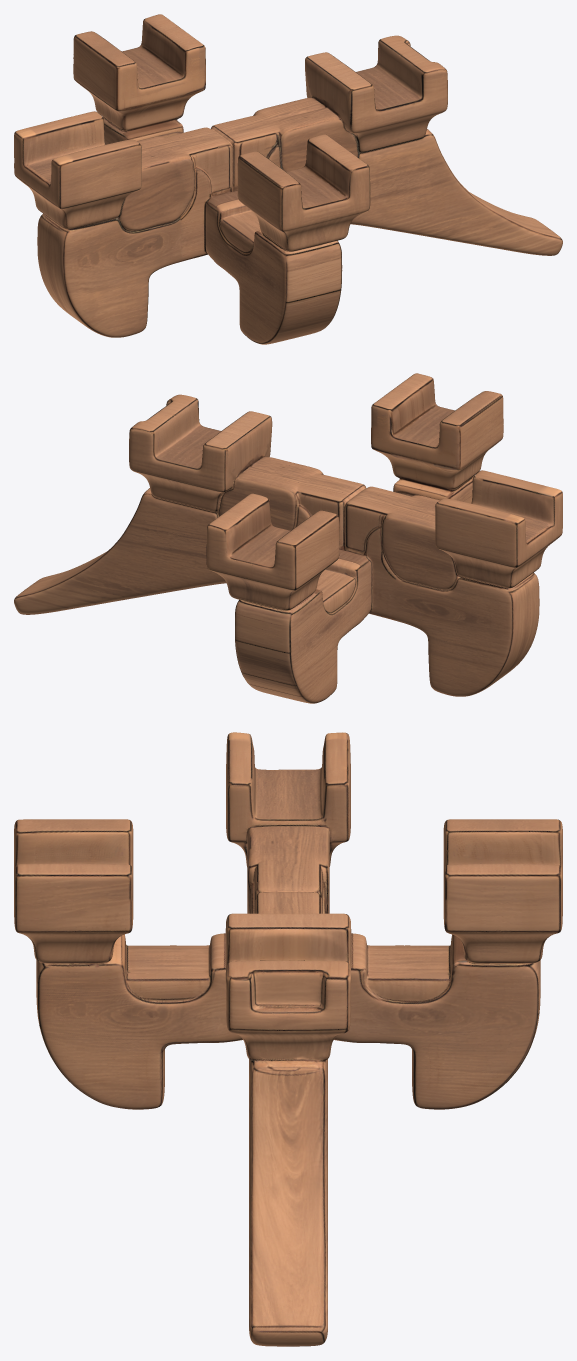
File: 组件集合肆.glb
3 renders of one model, top to bottom at view 1: azimuth 30°, elevation 25°; view 2: azimuth 150°, elevation 25°; view 3: azimuth 270°, elevation 25°, orthographic. The views are drawn at different scales.
Bounding box in the file's own units: 1.9 × 0.7988 × 1.34.
1 material, 1 textured.
